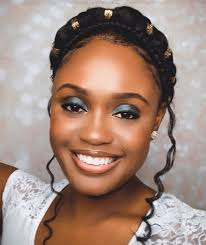person: (46, 7, 178, 198)
